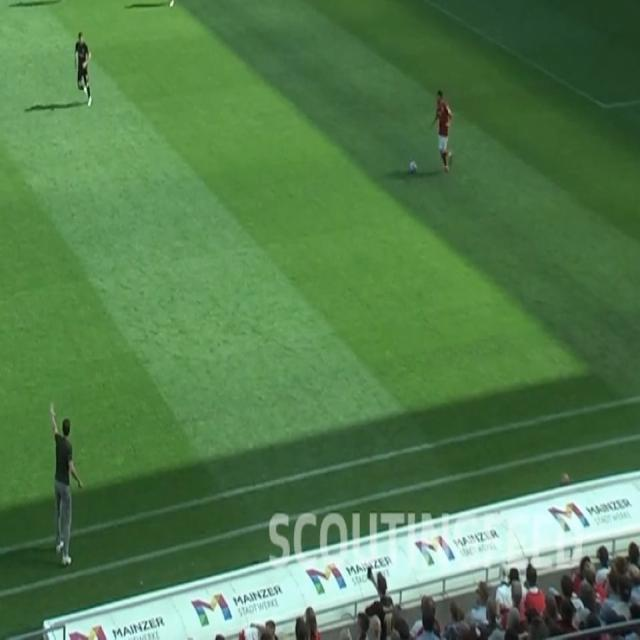ball: (408, 161, 417, 176)
